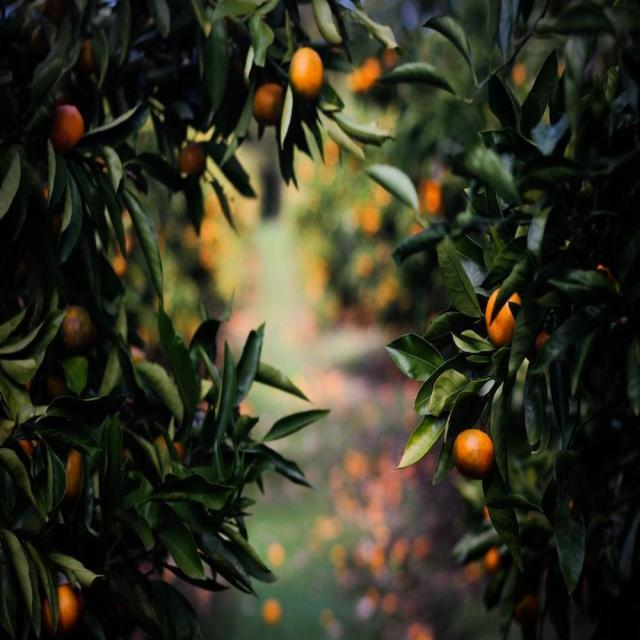Jeruk Sudah Matang: (486, 286, 525, 348), (42, 582, 88, 634), (54, 303, 96, 358), (288, 47, 325, 103), (454, 428, 494, 479), (48, 106, 86, 156), (60, 448, 88, 515), (252, 82, 286, 126), (177, 142, 208, 180)
